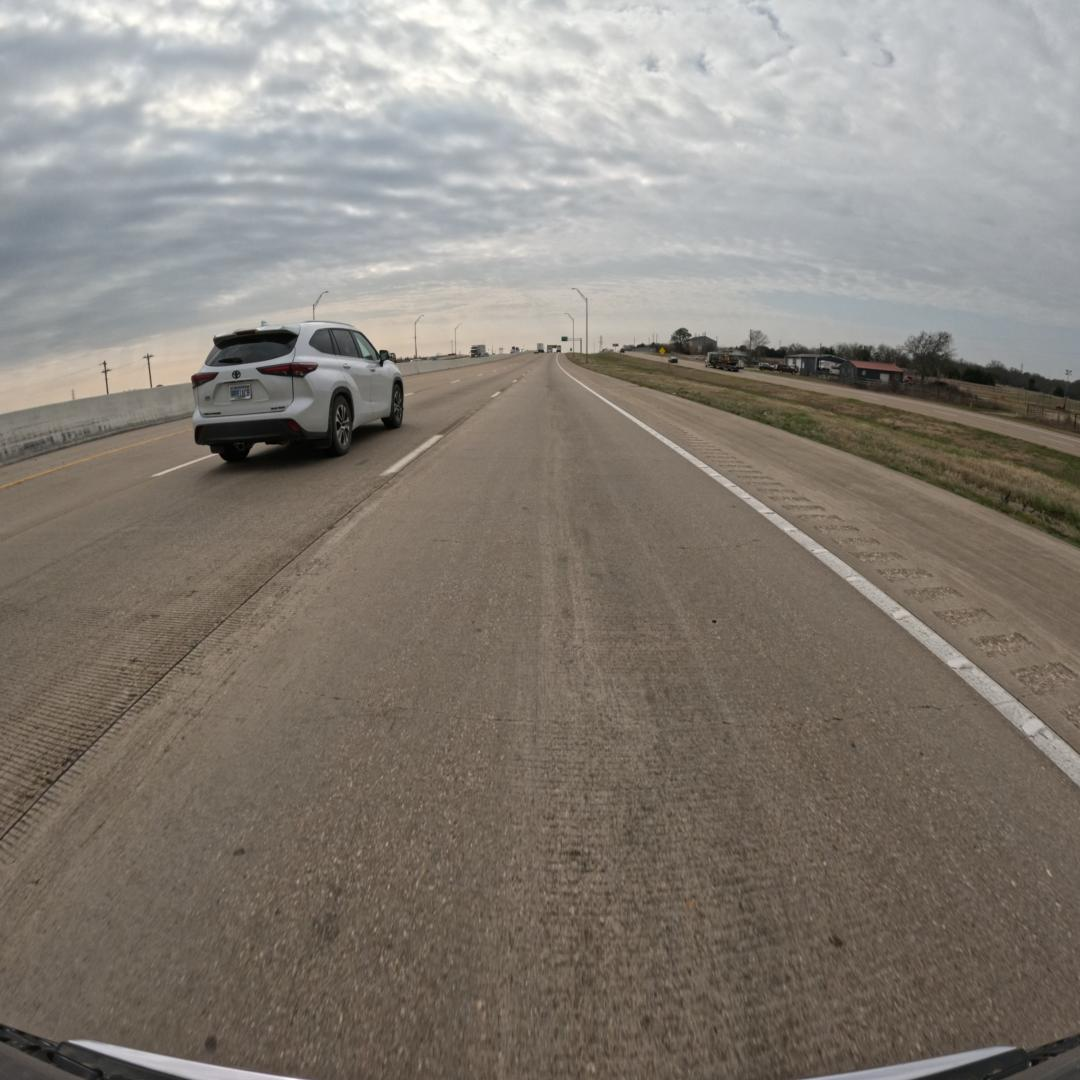lane0: (0, 360, 1080, 1076)
lane1: (0, 359, 530, 838)
